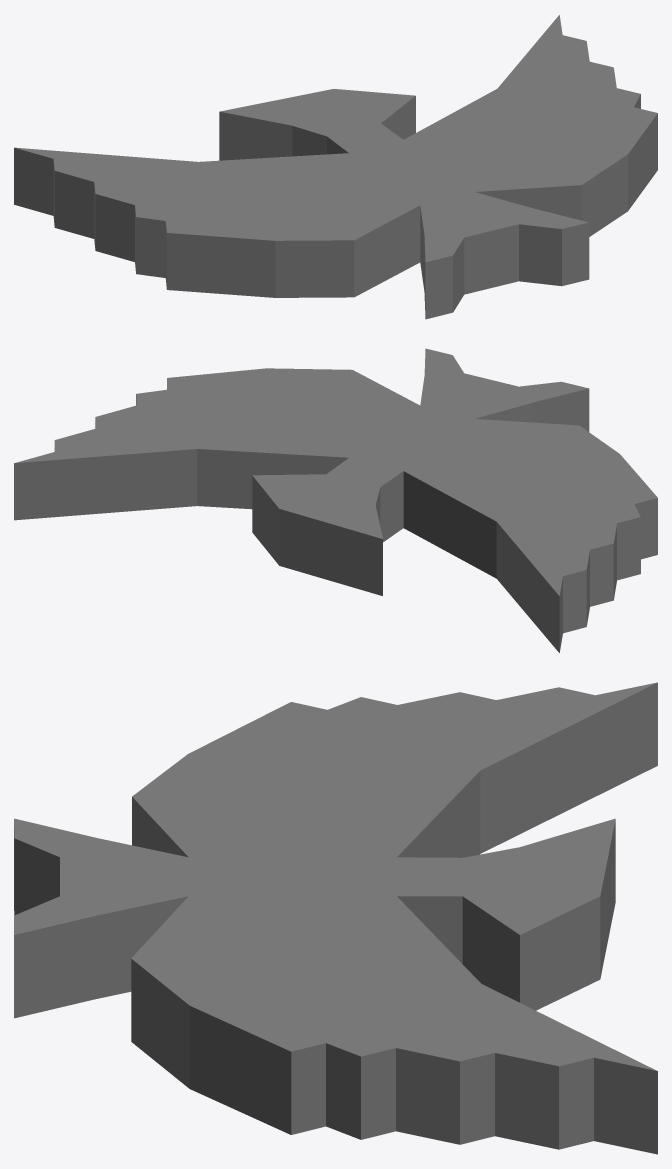
3 renders of one model, top to bottom at view 1: azimuth 30°, elevation 25°; view 2: azimuth 150°, elevation 25°; view 3: azimuth 270°, elevation 25°, orthographic. The views are drawn at different scales.
Visible parts, largest first — view 1: base; view 2: base; view 3: base.
Boxes of the visible parts, <box> form: base: <box>14,15,657,319</box>; base: <box>14,348,657,652</box>; base: <box>14,682,657,1154</box>.
Bounding box in the file's own units: 2 × 0.2 × 1.4.
Materials: 1 (1 with a texture image).
